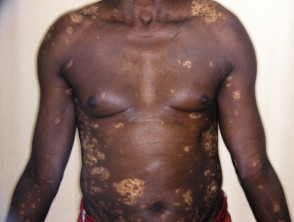Melasma: (174, 110, 221, 214), (96, 0, 279, 22), (80, 118, 114, 197), (37, 53, 52, 222), (115, 174, 152, 213), (212, 69, 243, 102), (252, 152, 273, 199), (175, 55, 222, 72), (78, 0, 123, 15)
